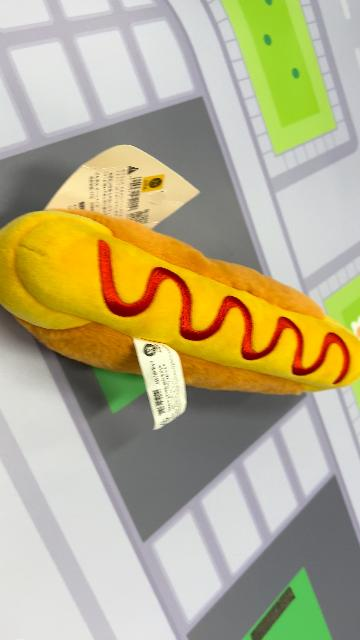hotdog: (1, 208, 358, 398)
